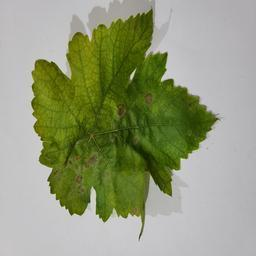Powdery-Mildew: (78, 43, 100, 78), (74, 148, 104, 169), (69, 171, 91, 195), (138, 89, 153, 104), (115, 102, 130, 117), (123, 176, 138, 191)
